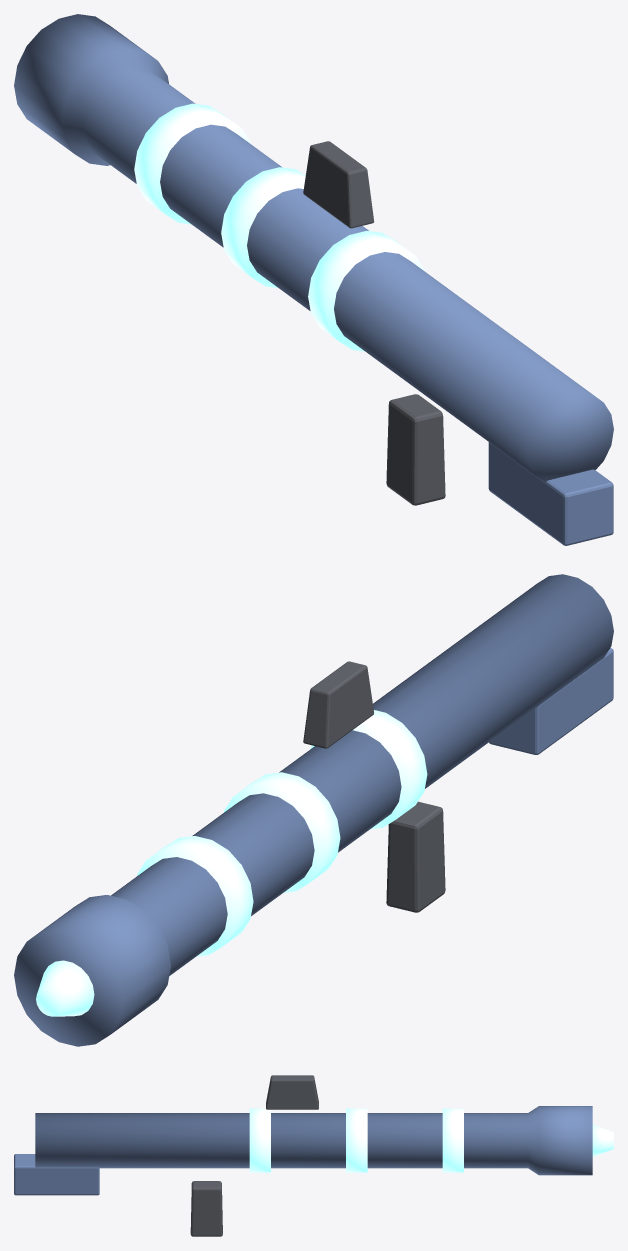
The model's file is weapon_bazooka_beam.glb.
3 views of the same model, one above another, from view 1: azimuth 30°, elevation 25°; view 2: azimuth 150°, elevation 25°; view 3: azimuth 270°, elevation 25° (orthographic). The views are drawn at different scales.
Parts seen in each view (by area): view 1: tube, shoulder_rest, grip, sight, coil, coil.002, coil.001; view 2: tube, grip, shoulder_rest, sight, coil.001, coil.002, coil, emitter; view 3: tube, shoulder_rest, grip, sight, coil.001, coil.002, coil, emitter.
Boxes of the visible parts, x1,y1,x2,y2 form: tube: (14,14,613,482); shoulder_rest: (488,442,613,545); grip: (386,394,445,505); sight: (303,141,374,228); coil: (308,231,424,351); coil.002: (134,103,250,224); coil.001: (221,167,305,287); tube: (14,574,613,1046); grip: (386,801,445,912); shoulder_rest: (489,648,613,754); sight: (303,661,373,748); coil.001: (223,772,340,893); coil.002: (137,836,253,956); coil: (310,710,427,829); emitter: (36,960,94,1016); tube: (35,1106,592,1175); shoulder_rest: (14,1154,99,1195); grip: (190,1181,222,1236); sight: (266,1075,318,1109); coil.001: (346,1108,367,1172); coil.002: (442,1108,463,1172); coil: (249,1108,270,1172); emitter: (592,1124,613,1156).
Size of the model in its own units: 1.11 by 2.72 by 9.52.
